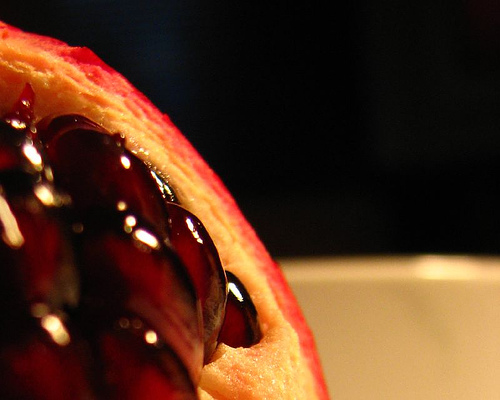pomogranate: (0, 19, 330, 399)
